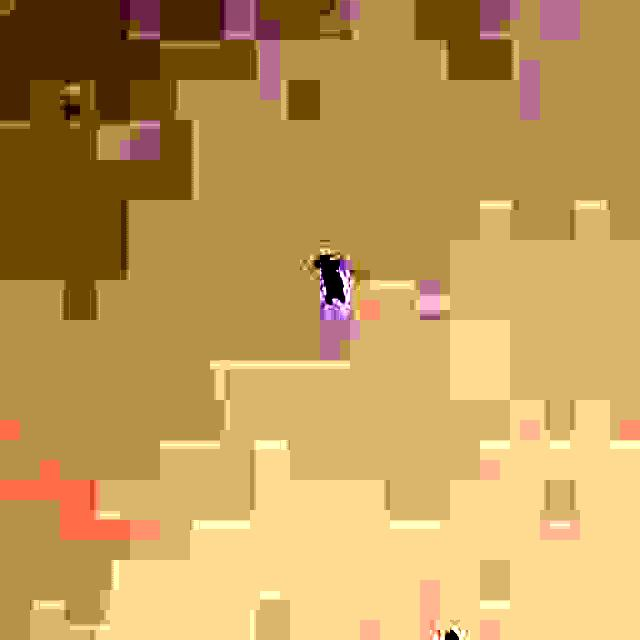drone: (306, 238, 358, 316)
